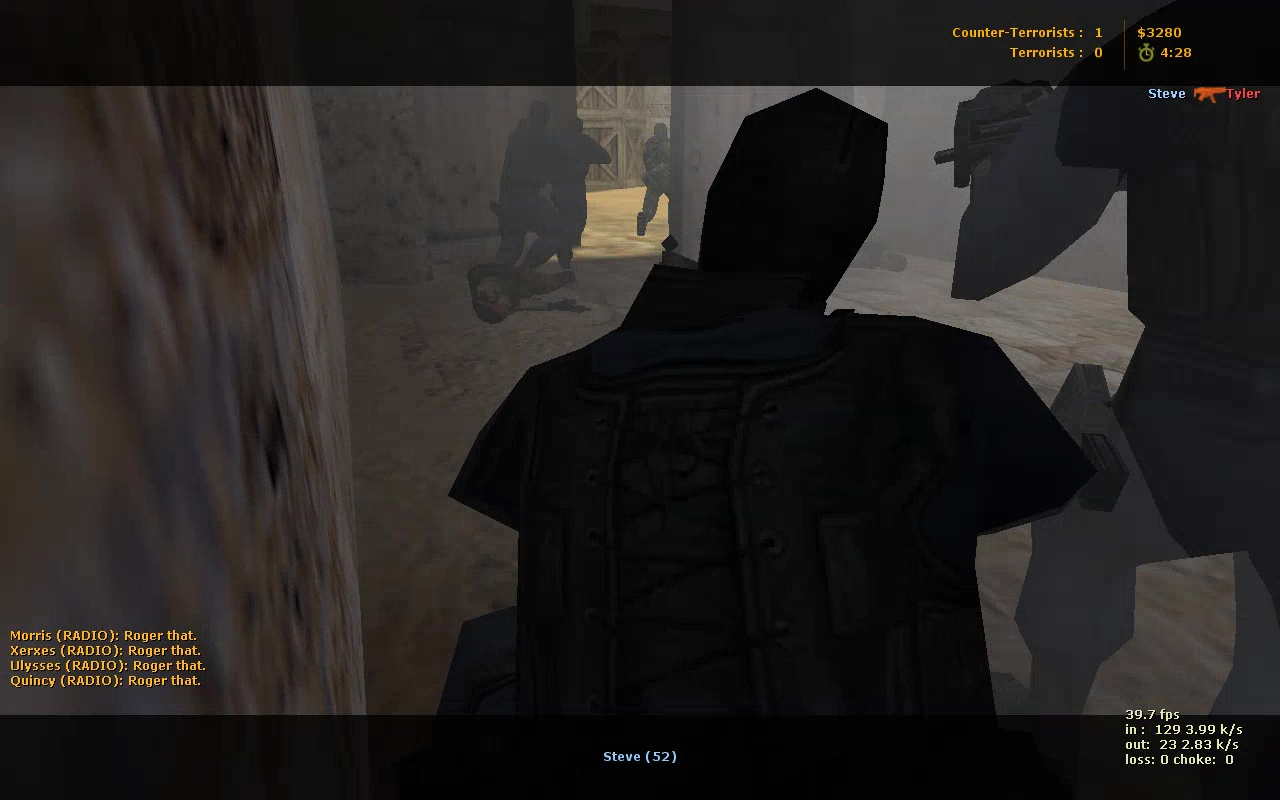ct: (497, 107, 575, 281), (639, 124, 674, 237)
